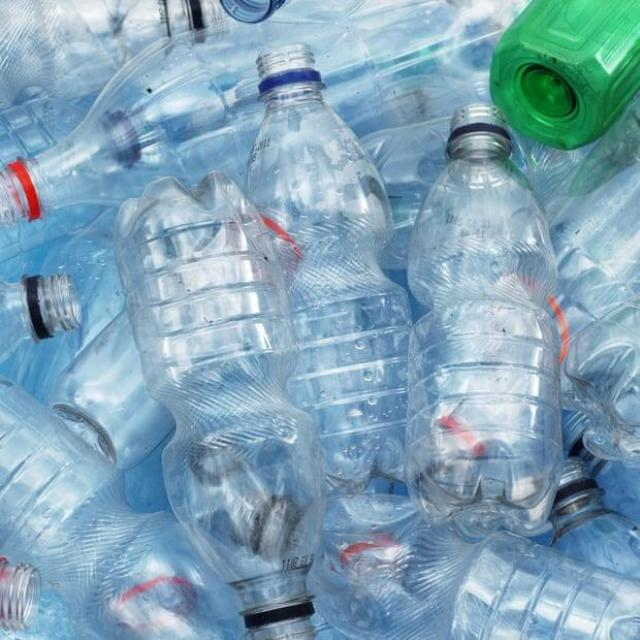plastic_bottle: (7, 22, 519, 232), (229, 42, 442, 492), (411, 99, 565, 543), (486, 15, 640, 165), (7, 265, 110, 360)
